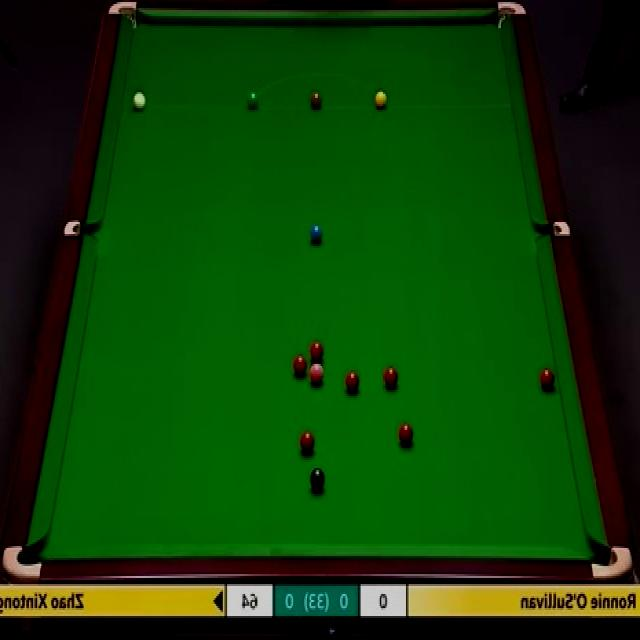pocket: (590, 543, 633, 583), (4, 542, 42, 580), (106, 0, 142, 31), (497, 0, 527, 34), (535, 218, 573, 237), (65, 222, 102, 238)
